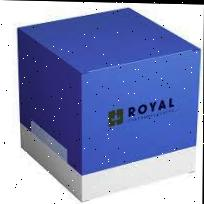cube: (17, 4, 202, 200)
